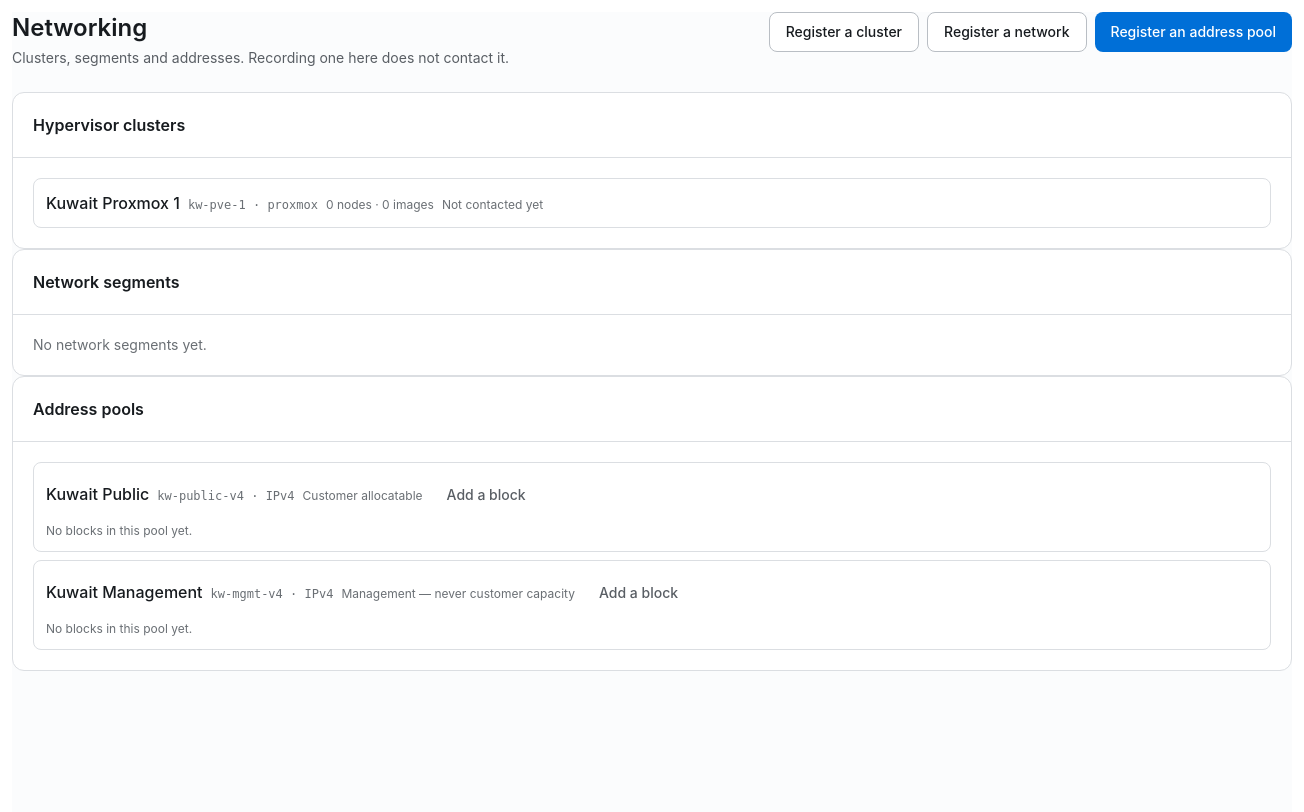
Scenario: NetworkingPage › warns before a management pool is created, and says the scope is permanent
Click the button "Register an address pool": (1193, 32) [1094, 12, 1292, 52]
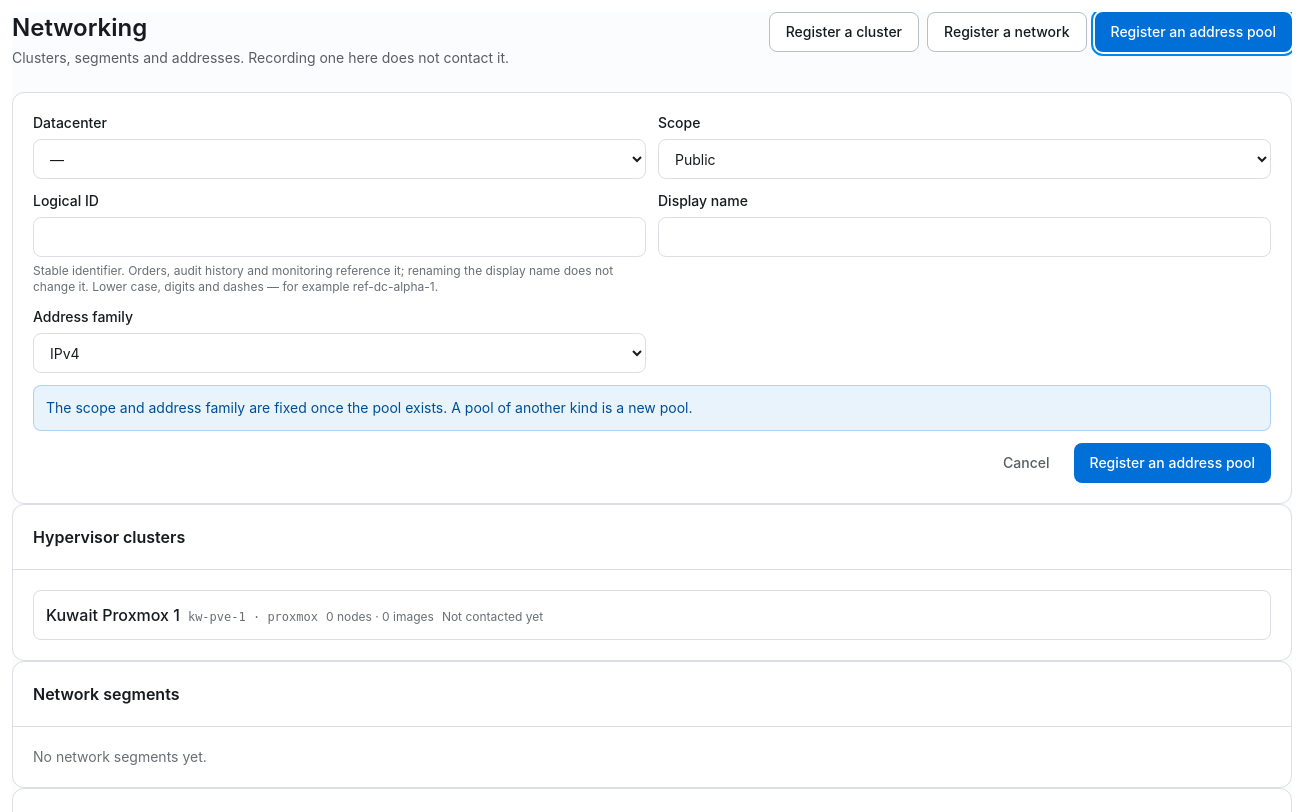
Expected: the text "fixed once the pool exists" is shown, [46, 399, 692, 416]
Select "Management" in the dropdown labelled "Scope": (964, 159) [658, 139, 1271, 179]
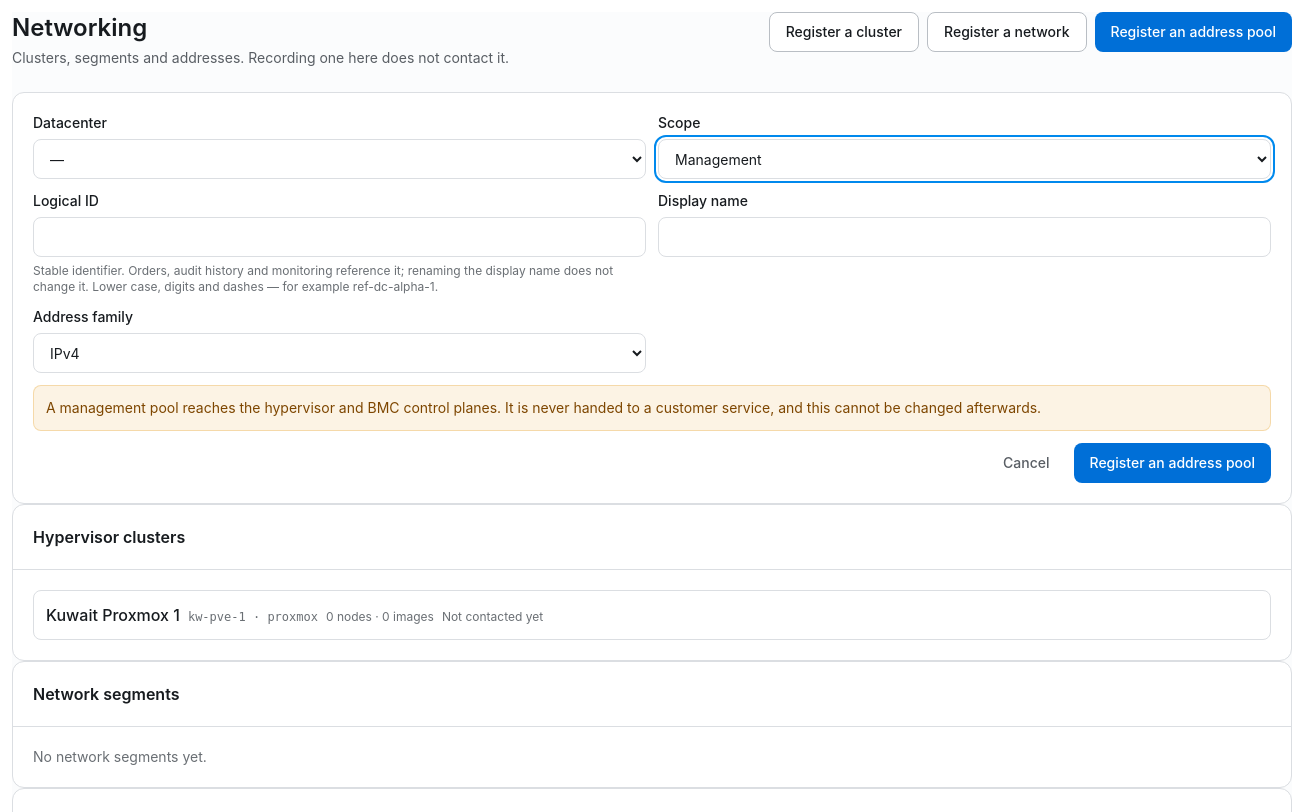
Expected: the text "reaches the hypervisor and BMC control planes" is shown, [46, 399, 1041, 416]
